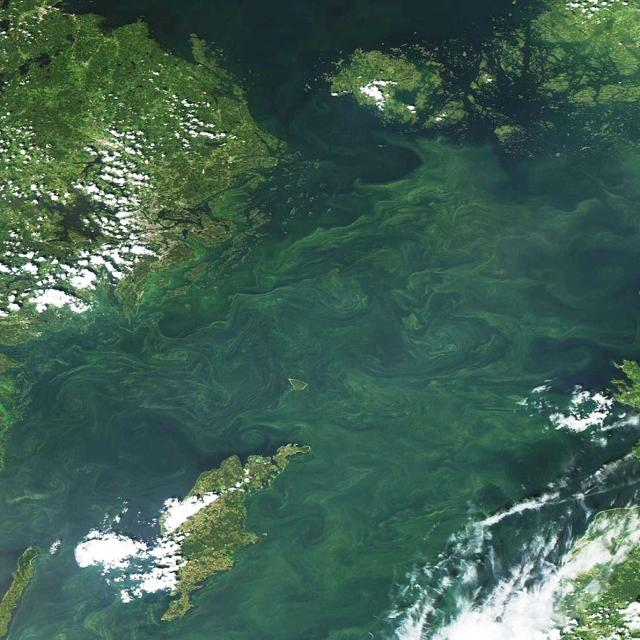algal: (231, 430, 467, 639), (136, 318, 526, 432), (254, 203, 634, 310), (3, 354, 167, 508)
